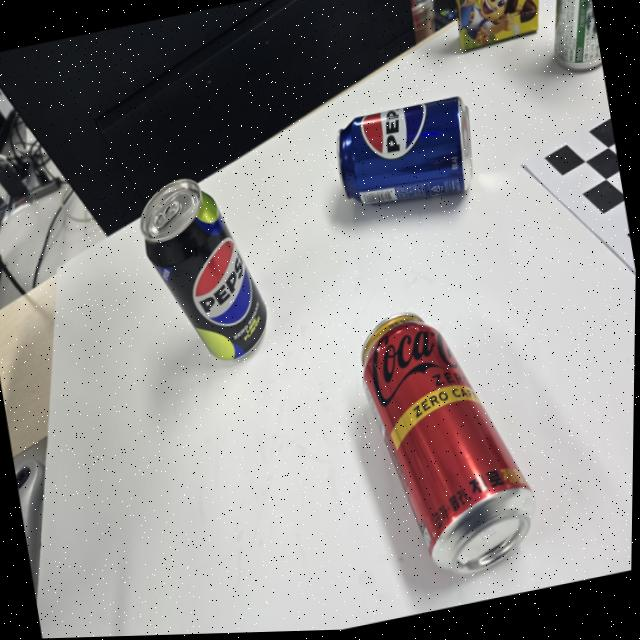can_coke_decaf: (360, 311, 535, 573)
can_pepsi: (337, 95, 473, 204)
can_pepsi_zero: (140, 177, 267, 360)
